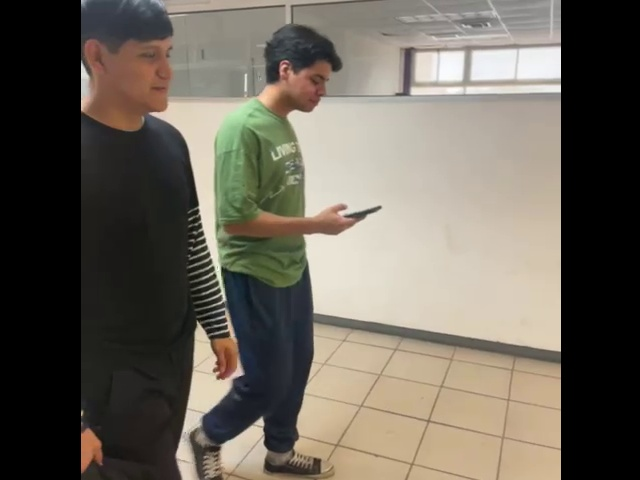mixto2: (337, 200, 389, 228)
